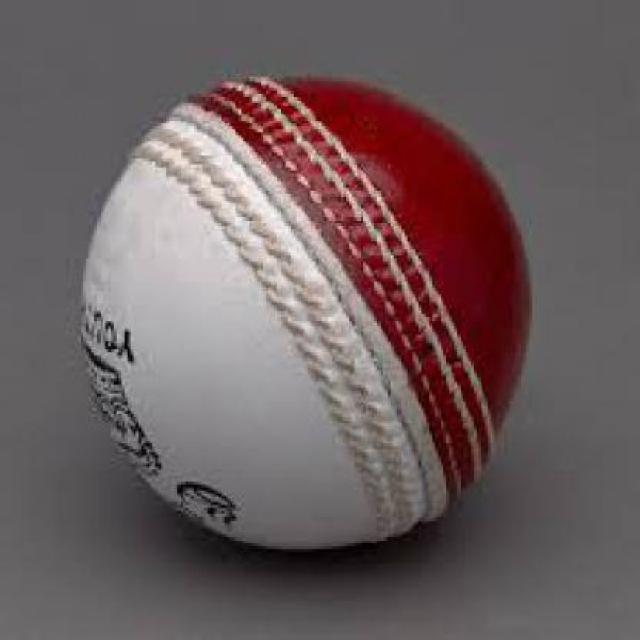ball: (44, 41, 556, 572)
